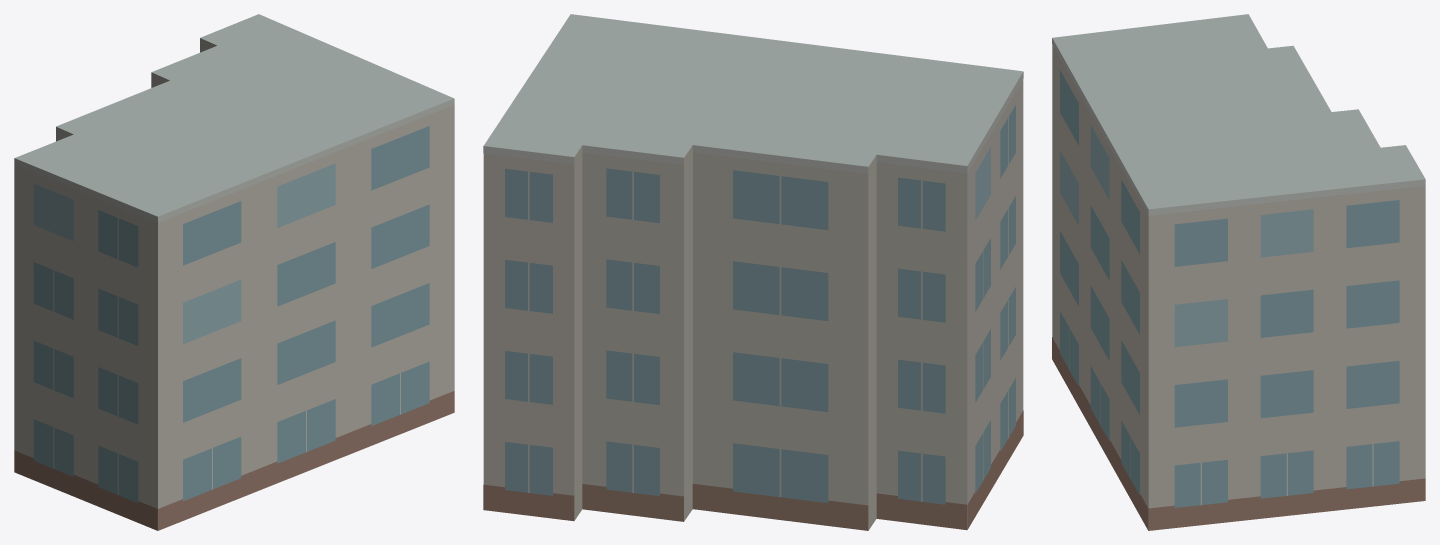
The model's file is survey-upis-32979137.glb.
3 renders of one model, left to right at view 1: azimuth 30°, elevation 25°; view 2: azimuth 150°, elevation 25°; view 3: azimuth 270°, elevation 25°, orthographic. The views are drawn at different scales.
Parts seen in each view (by area): view 1: survey-upis-32979137.tmp; view 2: survey-upis-32979137.tmp; view 3: survey-upis-32979137.tmp.
Boxes of the visible parts, <box> form: survey-upis-32979137.tmp: <box>14,14,454,530</box>; survey-upis-32979137.tmp: <box>483,14,1023,530</box>; survey-upis-32979137.tmp: <box>1052,14,1425,530</box>.
Size of the model in its own units: 15.91 by 12.2 by 12.86.
